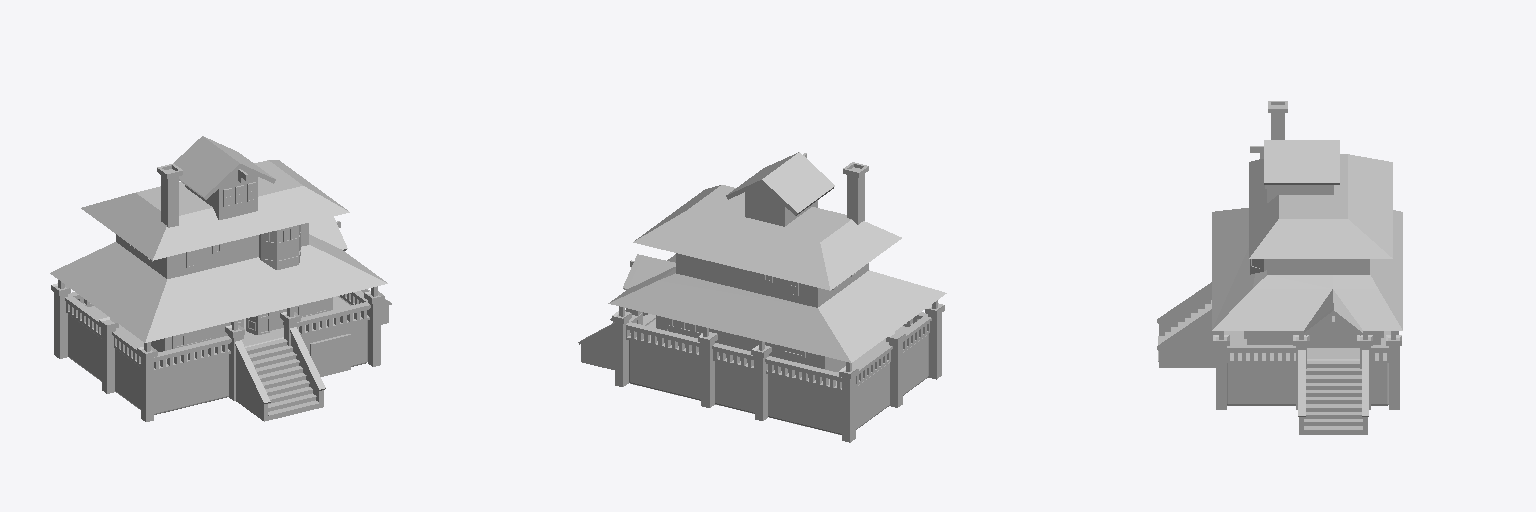
Rendered from casa.obj.
The picture shows the model from 3 angles: view 1: azimuth 30°, elevation 25°; view 2: azimuth 150°, elevation 25°; view 3: azimuth 270°, elevation 25°; orthographic projection.
Visible parts, largest first — view 1: casa2:pCube14, balcon:pCube1, puertaGarage:pasted__pCube36 puertaGarage:group, pasamanos:pCube1, pCube1, pCube18, pCube16, columna:pCube1, pCube23, pCube3, pCube19, pCube2; view 2: casa2:pCube14, pCube6, pCube4, pCube18, pCube22, pCube17, pCube16, pCube21, columna:pCube1, pCube5, pCube3, pCube2; view 3: casa2:pCube14, pCube13, pCube23, pCube17.
Part boxes in pixels (x1,y1,x2,y2): casa2:pCube14: (50,136,391,421); balcon:pCube1: (259,225,300,269); puertaGarage:pasted__pCube36 puertaGarage:group: (310,334,350,376); pasamanos:pCube1: (154,336,231,371); pCube1: (283,302,370,335); pCube18: (51,283,70,358); pCube16: (99,317,118,393); columna:pCube1: (137,346,157,421); pCube23: (364,291,384,366); pCube3: (65,296,120,343); pCube19: (225,325,244,400); pCube2: (95,320,141,366); casa2:pCube14: (578,152,946,434); pCube6: (626,322,700,357); pCube4: (767,356,841,391); pCube18: (839,366,858,442); pCube22: (698,332,717,407); pCube17: (612,311,631,386); pCube16: (886,331,905,407); pCube21: (751,345,771,420); columna:pCube1: (925,303,944,379); pCube5: (689,343,773,374); pCube3: (855,342,891,386); pCube2: (881,315,930,367); casa2:pCube14: (1157,101,1402,434); pCube13: (1227,345,1295,362); pCube23: (1213,335,1229,409); pCube17: (1386,335,1401,409).
Bounding box in the file's own units: 15.93 × 11.43 × 11.69.